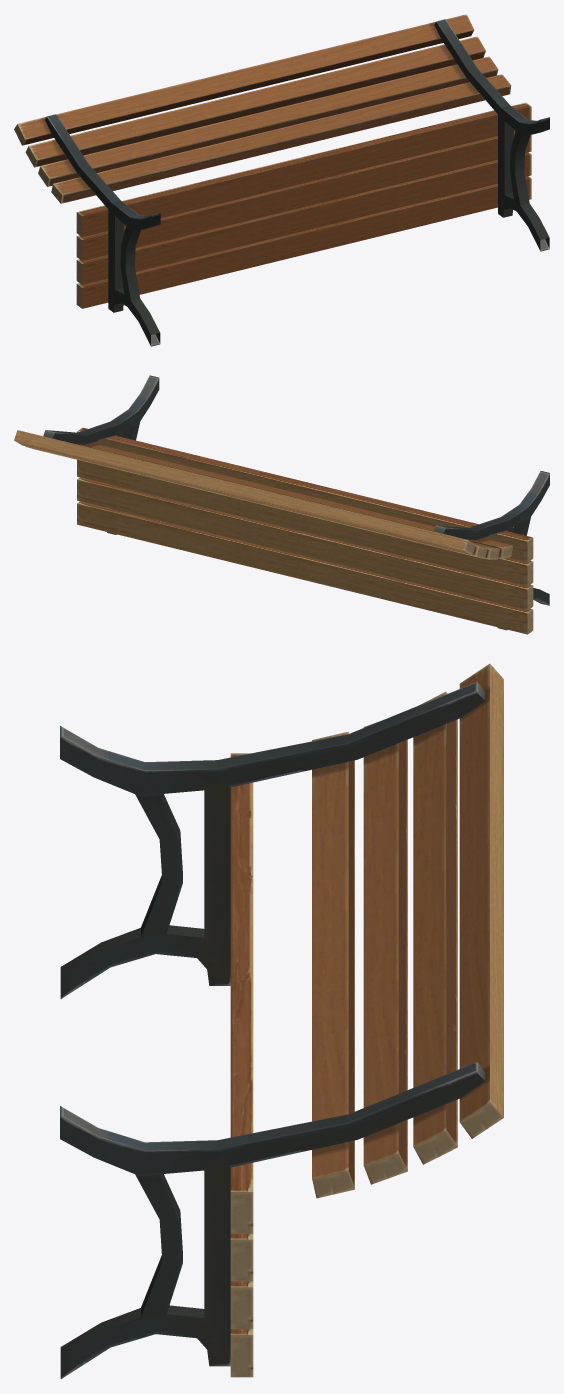
Rendered from lavka.fbx.
3 renders of one model, top to bottom at view 1: azimuth 30°, elevation 25°; view 2: azimuth 150°, elevation 25°; view 3: azimuth 270°, elevation 25°, orthographic. The views are drawn at different scales.
Parts seen in each view (by area): view 1: stage_21_zuoyi__1_; view 2: stage_21_zuoyi__1_; view 3: stage_21_zuoyi__1_.
Part boxes in pixels (bbox=[...]): stage_21_zuoyi__1_: bbox=[14, 14, 549, 346]; stage_21_zuoyi__1_: bbox=[14, 375, 549, 634]; stage_21_zuoyi__1_: bbox=[60, 663, 503, 1378].
Size of the model in its own units: 3.07 by 1.01 by 1.31.
Materials: 1 (1 with a texture image).
